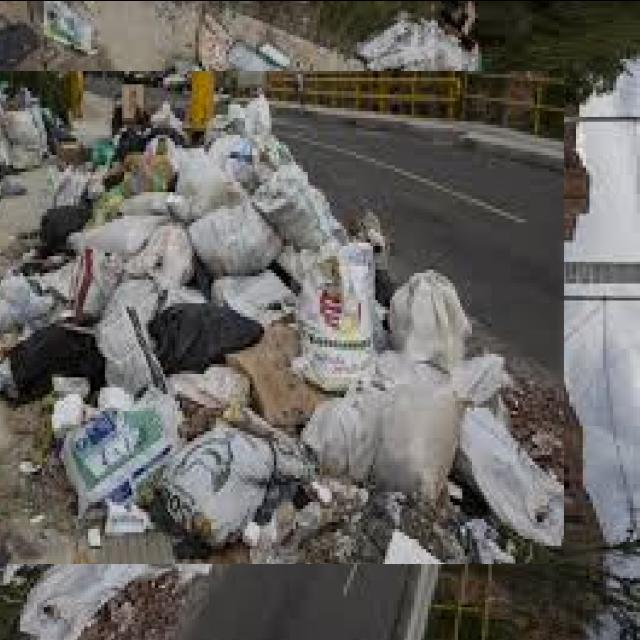garbage: (0, 35, 530, 597)
